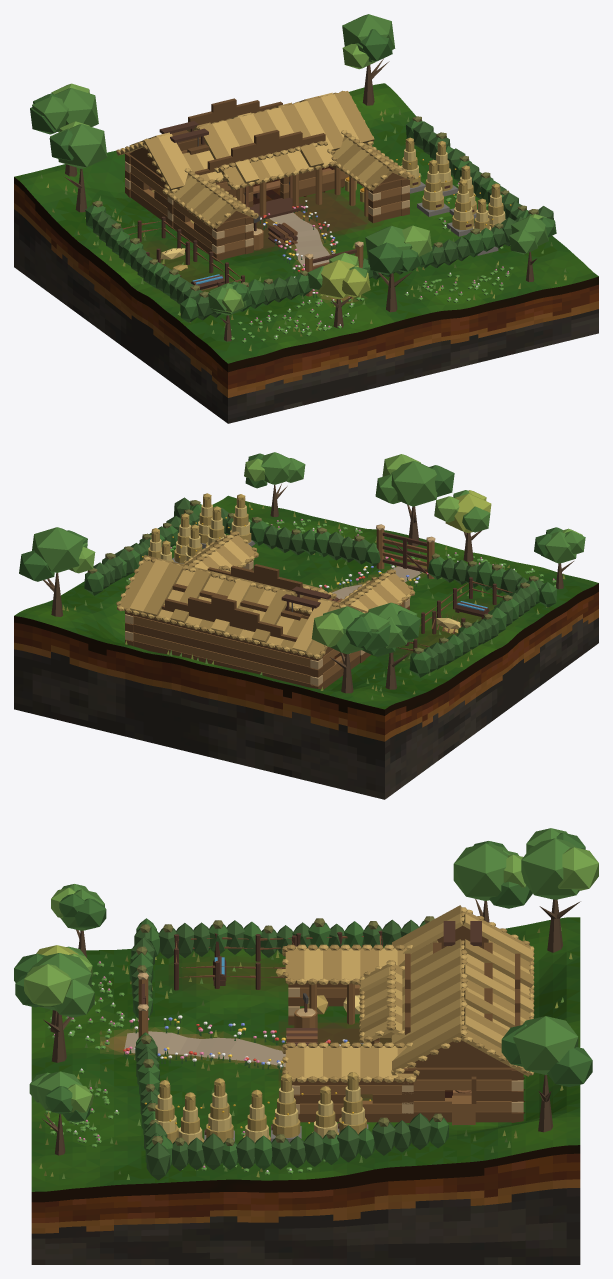
The model's file is beorns-house.glb.
3 renders of one model, top to bottom at view 1: azimuth 30°, elevation 25°; view 2: azimuth 150°, elevation 25°; view 3: azimuth 270°, elevation 25°, orthographic. The views are drawn at different scales.
Visible parts, largest first — view 1: beorns-house, plinth, terrain, cover-roof, cover-front; view 2: plinth, beorns-house, terrain, cover-roof, door-gate; view 3: beorns-house, terrain, plinth, cover-roof.
Part boxes in pixels (bbox=[...]): beorns-house: bbox=[30, 14, 566, 351]; plinth: bbox=[14, 177, 598, 423]; terrain: bbox=[14, 83, 598, 363]; cover-roof: bbox=[116, 90, 415, 228]; cover-front: bbox=[215, 168, 357, 207]; plinth: bbox=[14, 583, 598, 799]; beorns-house: bbox=[19, 452, 585, 699]; terrain: bbox=[14, 495, 598, 709]; cover-roof: bbox=[116, 531, 415, 658]; door-gate: bbox=[382, 532, 426, 573]; beorns-house: bbox=[14, 828, 598, 1180]; terrain: bbox=[31, 917, 580, 1191]; plinth: bbox=[31, 1145, 580, 1264]; cover-roof: bbox=[282, 905, 534, 1082].
Size of the model in its own units: 14.24 by 6.48 by 14.92.
